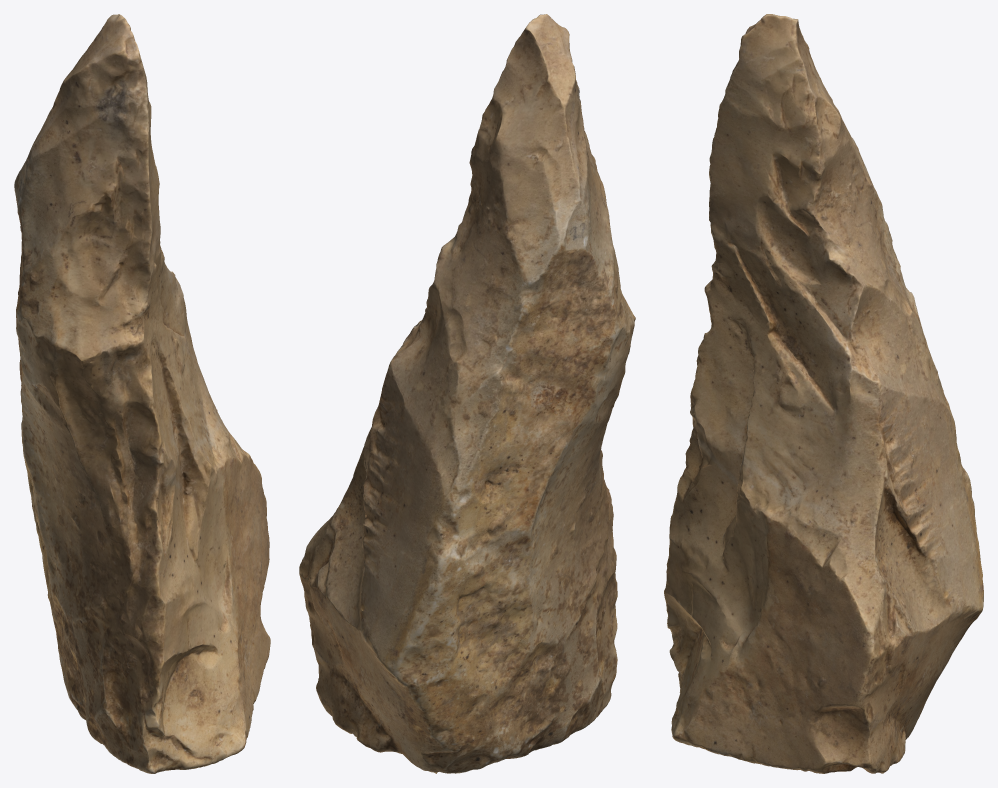
File: Feuerstein2_50kTris_2x2kTex.gltf
3 views of the same model, side by side, from view 1: azimuth 30°, elevation 25°; view 2: azimuth 150°, elevation 25°; view 3: azimuth 270°, elevation 25° (orthographic). The views are drawn at different scales.
Visible parts, largest first — view 1: Feuerstein2_50kTris_2x2kTex:default1; view 2: Feuerstein2_50kTris_2x2kTex:default1; view 3: Feuerstein2_50kTris_2x2kTex:default1.
Boxes of the visible parts, x1,y1,x2,y2 form: Feuerstein2_50kTris_2x2kTex:default1: [14, 14, 270, 773]; Feuerstein2_50kTris_2x2kTex:default1: [299, 14, 635, 773]; Feuerstein2_50kTris_2x2kTex:default1: [664, 14, 983, 773].
Bounding box in the file's own units: 0.0572 × 0.14 × 0.0575.
Materials: 2 (2 with a texture image).
